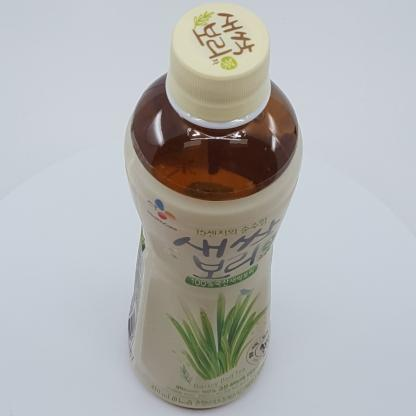CJ-----410ML: (123, 3, 303, 410)
